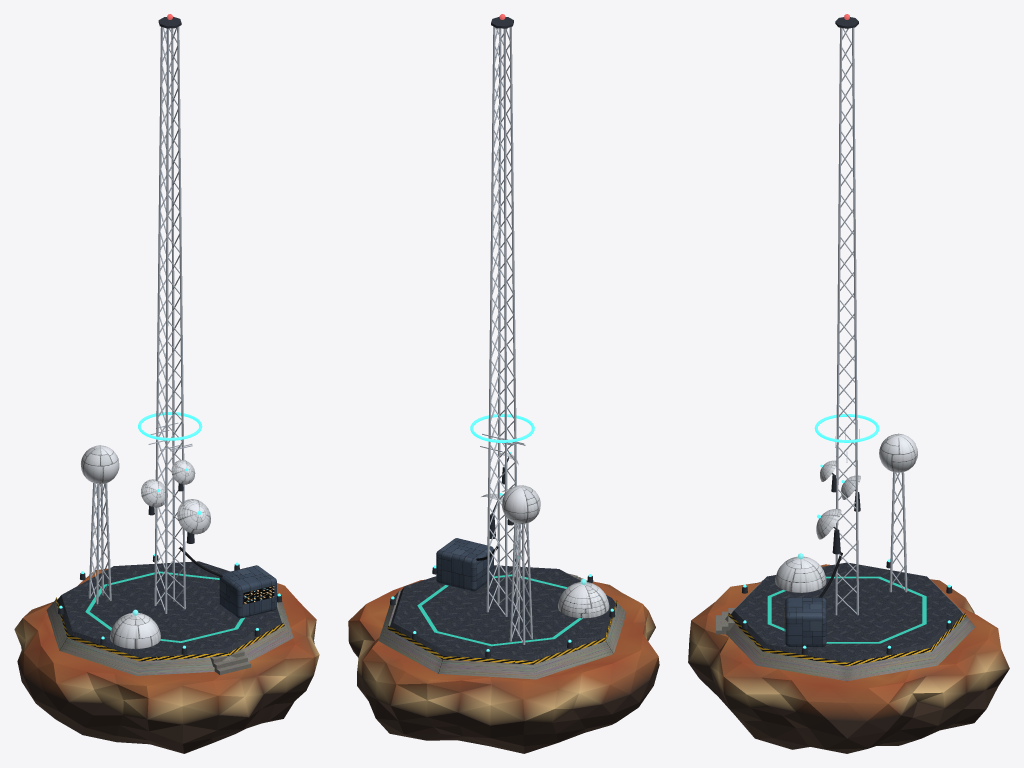
3 renders of one model, left to right at view 1: azimuth 30°, elevation 25°; view 2: azimuth 150°, elevation 25°; view 3: azimuth 270°, elevation 25°, orthographic.
Visible parts, largest first — view 1: object 1, object 4, object 2, object 260, anim:rot (×2), object 258, object 313, object 3, object 5; view 2: object 1, object 4, object 2, object 260, object 258, object 313, object 3, object 5; view 3: object 1, object 4, object 2, object 260, object 258, object 313, object 3, object 5.
Boxes of the visible parts, <box> form: object 1: <box>14,568,319,753</box>; object 4: <box>57,561,281,657</box>; object 2: <box>46,593,293,675</box>; object 260: <box>219,565,276,618</box>; anim:rot (×2): <box>141,479,210,534</box>; object 258: <box>110,613,160,648</box>; object 313: <box>81,445,119,484</box>; object 3: <box>55,597,284,661</box>; object 5: <box>85,571,244,642</box>; object 1: <box>348,579,659,753</box>; object 4: <box>390,565,615,660</box>; object 2: <box>378,590,626,679</box>; object 260: <box>436,538,493,591</box>; object 258: <box>558,582,609,618</box>; object 313: <box>502,485,540,524</box>; object 3: <box>387,600,617,664</box>; object 5: <box>417,574,582,646</box>; object 1: <box>688,564,1009,753</box>; object 4: <box>731,562,963,662</box>; object 2: <box>725,580,975,681</box>; object 260: <box>785,597,826,646</box>; object 258: <box>775,556,826,592</box>; object 313: <box>879,433,917,472</box>; object 3: <box>728,613,966,666</box>; object 5: <box>767,576,926,643</box>.
Bounding box in the file's own units: 6.25 × 14.96 × 6.25.
15 materials, 6 textured.
